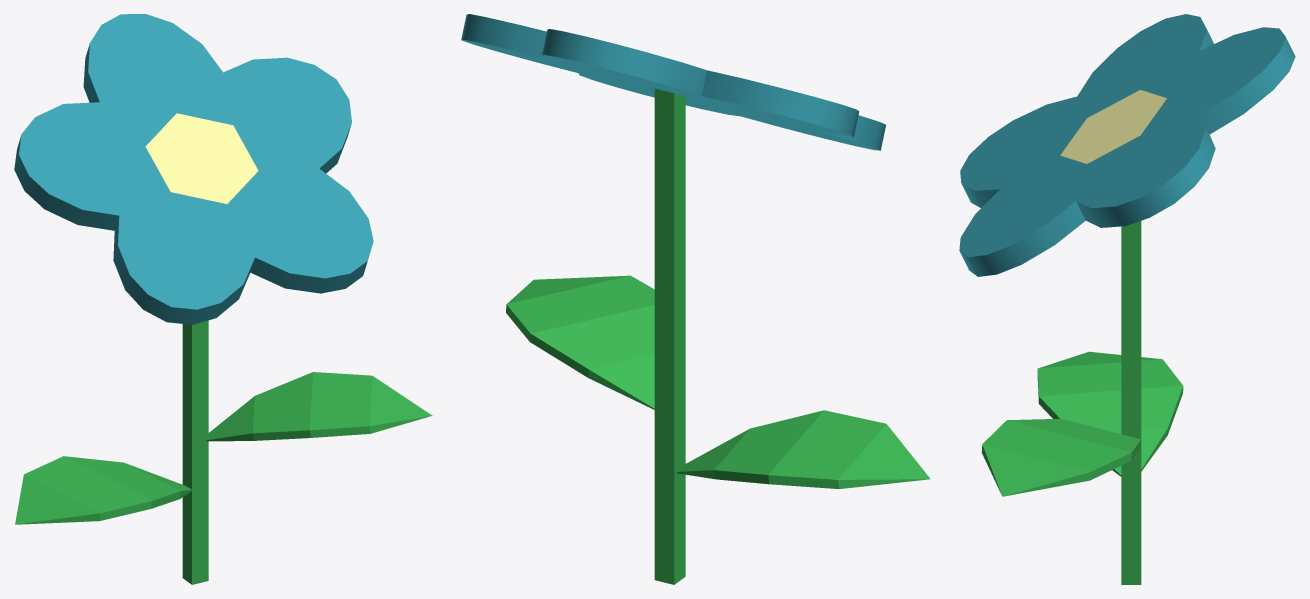
Rendered from Flower_1x_BlueDark.FBX.
3 renders of one model, left to right at view 1: azimuth 30°, elevation 25°; view 2: azimuth 150°, elevation 25°; view 3: azimuth 270°, elevation 25°, orthographic. The views are drawn at different scales.
Visible parts, largest first — view 1: Flower_1x_BlueDark; view 2: Flower_1x_BlueDark; view 3: Flower_1x_BlueDark.
Boxes of the visible parts, bbox=[...] form: Flower_1x_BlueDark: bbox=[14, 14, 432, 584]; Flower_1x_BlueDark: bbox=[461, 14, 930, 584]; Flower_1x_BlueDark: bbox=[959, 14, 1295, 584].
Size of the model in its own units: 30.92 by 40.17 by 22.55.
